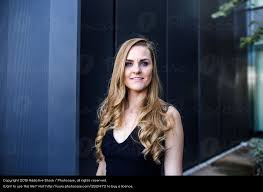white_female: (105, 46, 158, 104)
